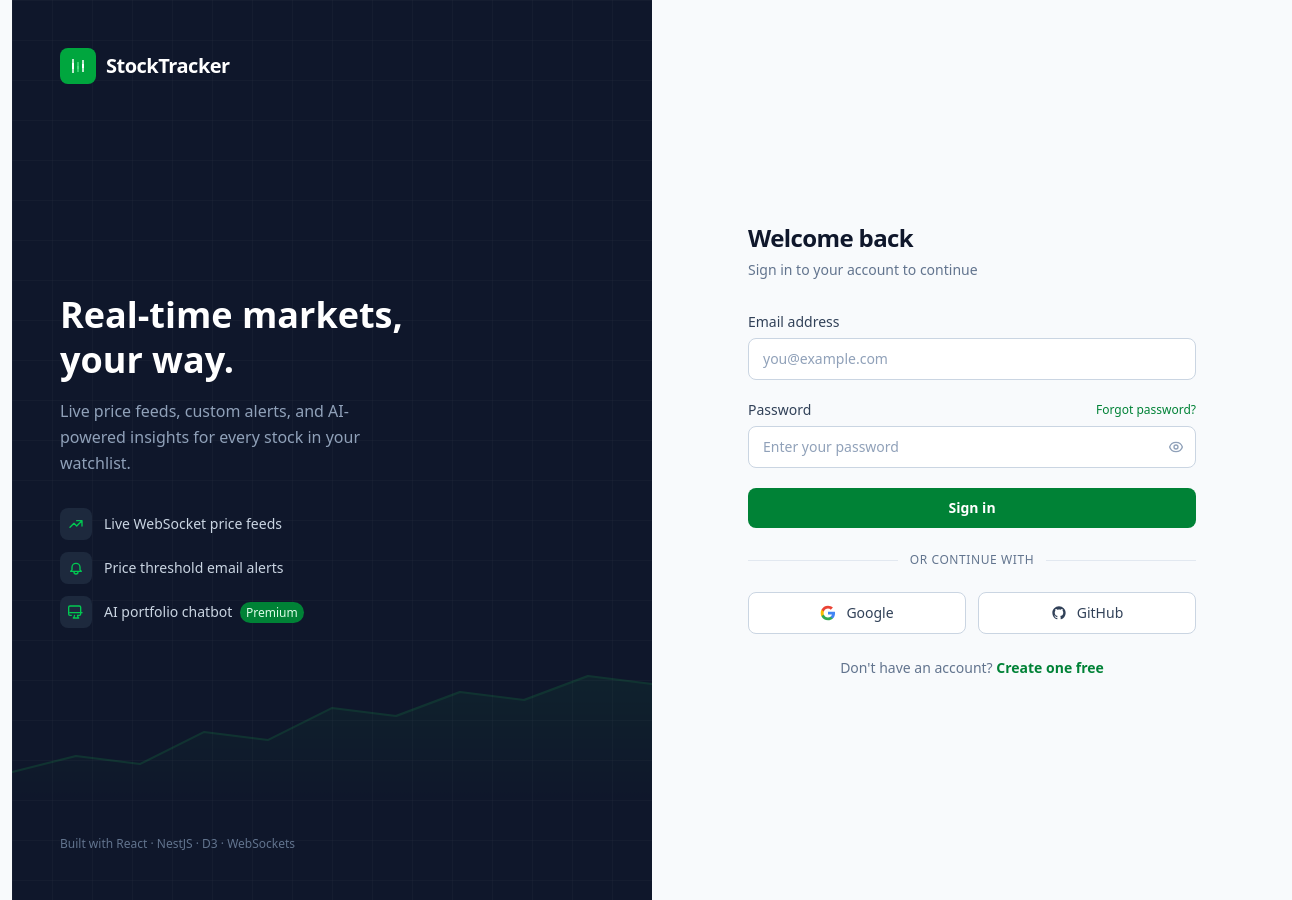
LoginPage › validation › shows email validation error on empty submit
The width and height of the screenshot is (1292, 900).
Click the button "Sign in": (972, 508) [748,488,1196,528]
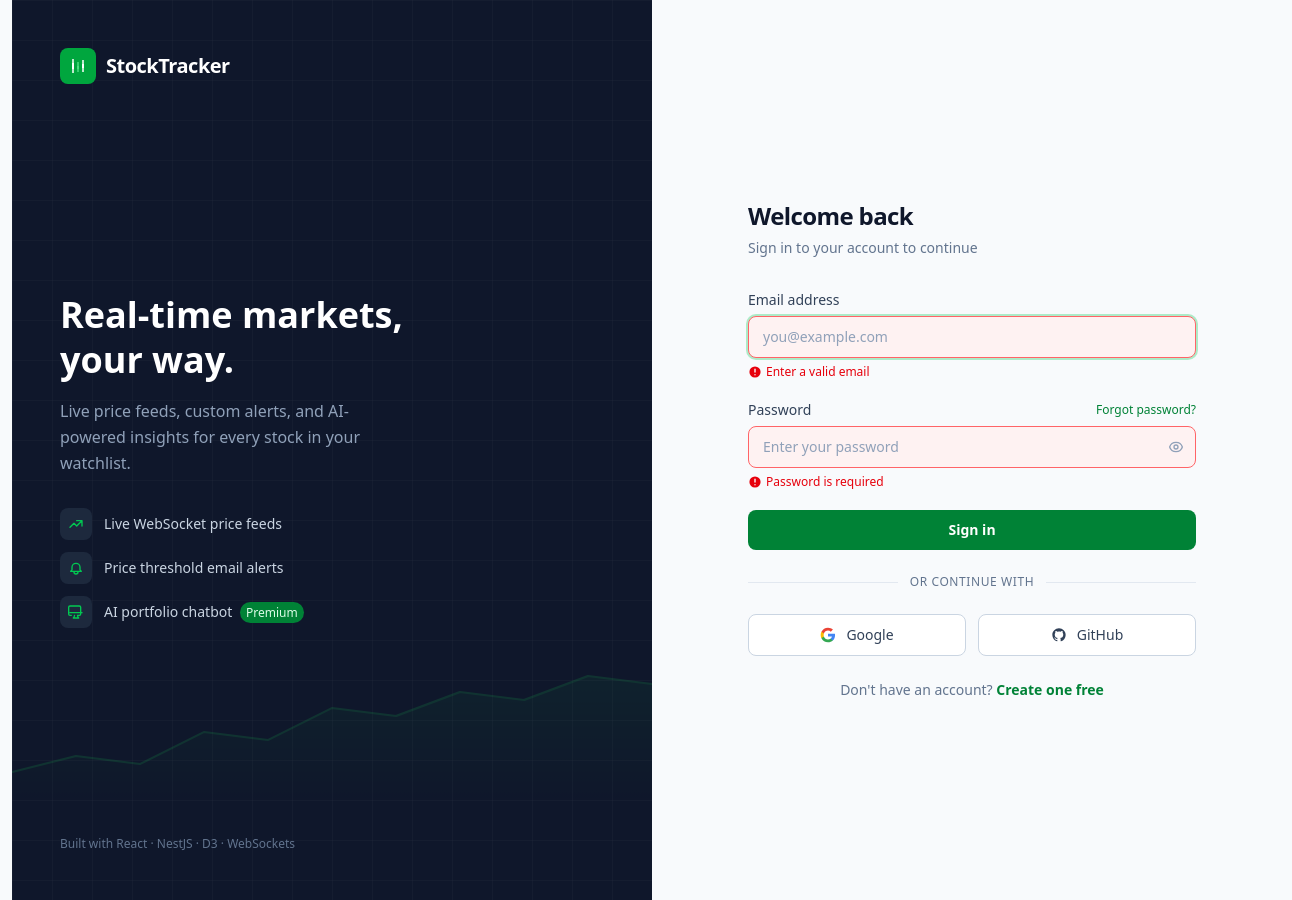
Expected: the text "Enter a valid email" is shown, [748,363,870,380]
